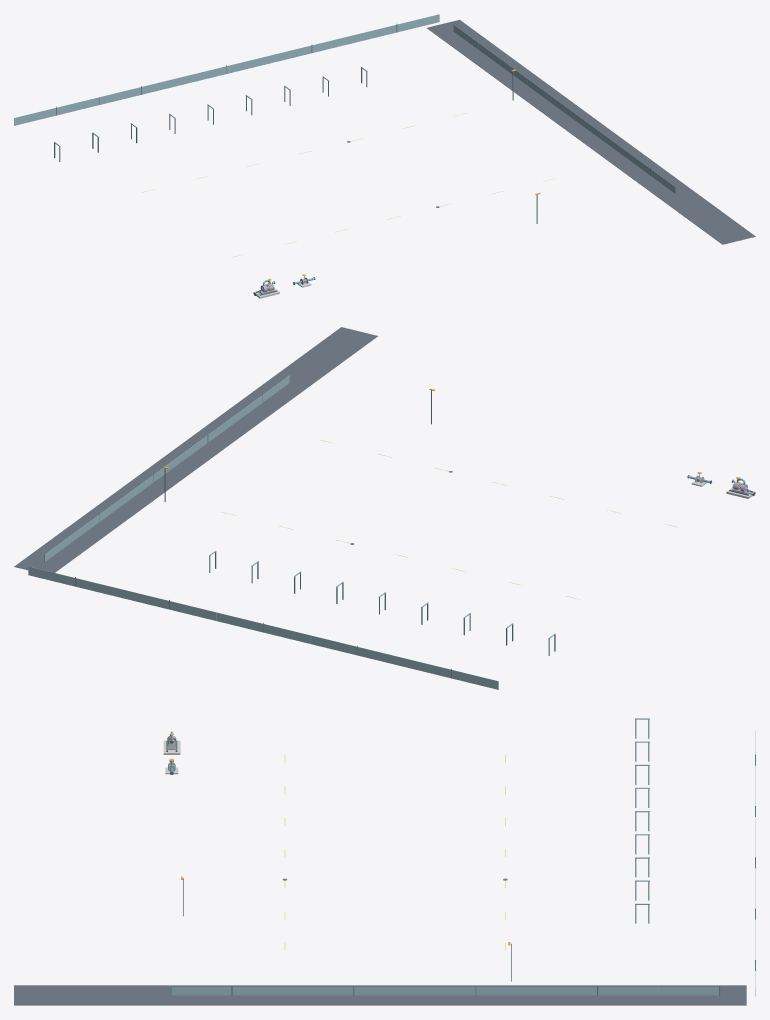
3 renders of one model, top to bottom at view 1: azimuth 30°, elevation 25°; view 2: azimuth 150°, elevation 25°; view 3: azimuth 270°, elevation 25°, orthographic. The views are drawn at different scales.
Parts seen in each view (by area): view 1: render-batch-2, render-batch-4, render-batch-3; view 2: render-batch-2, render-batch-4, render-batch-3; view 3: render-batch-2, render-batch-4, render-batch-3.
Boxes of the visible parts, bbox=[...] form: render-batch-2: bbox=[427, 19, 755, 244]; render-batch-4: bbox=[14, 14, 675, 193]; render-batch-3: bbox=[54, 24, 651, 223]; render-batch-2: bbox=[14, 327, 377, 572]; render-batch-4: bbox=[28, 375, 555, 689]; render-batch-3: bbox=[44, 390, 555, 678]; render-batch-2: bbox=[14, 985, 746, 1005]; render-batch-4: bbox=[171, 718, 755, 996]; render-batch-3: bbox=[183, 719, 755, 995].
Bounding box in the file's own units: 107 × 7.08 × 125.
